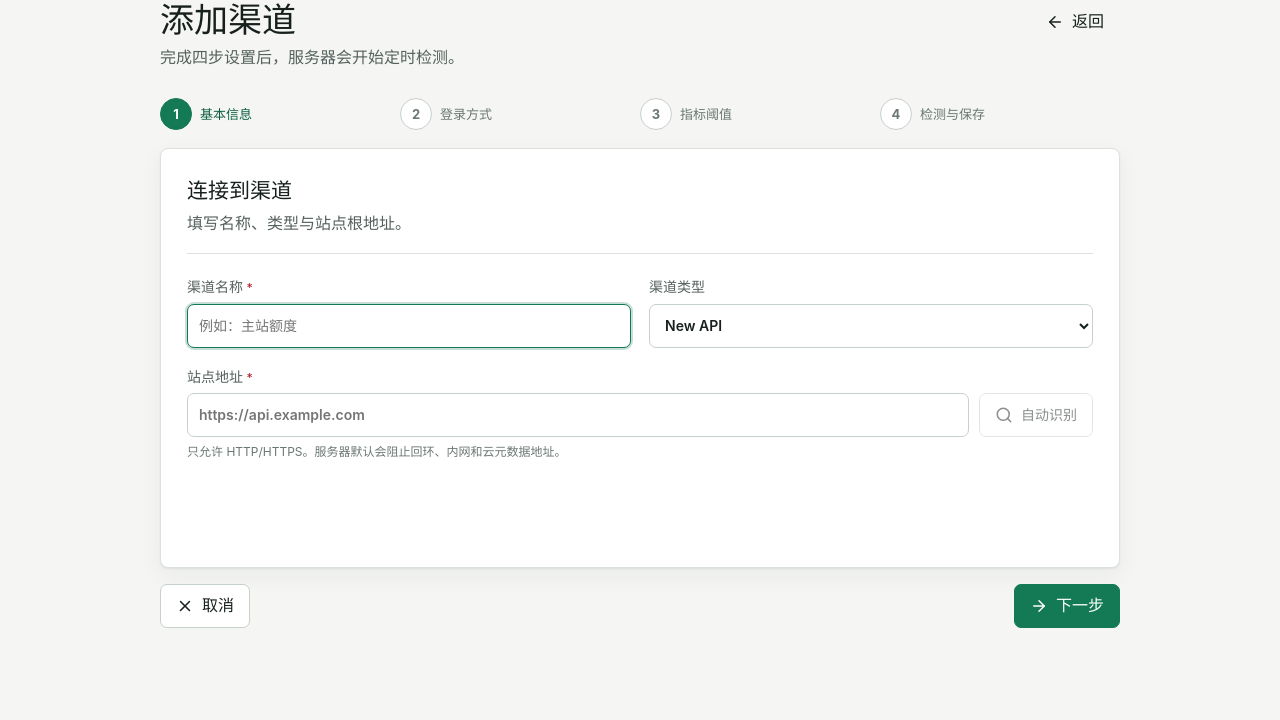
Test: 渠道向导 › Sub2API 登录步骤提供可选的管理员号池密钥
The image size is (1280, 720).
Type "Sub2 号池" into the field labelled "渠道名称 *". click: (409, 326)
box: [187, 304, 631, 348]
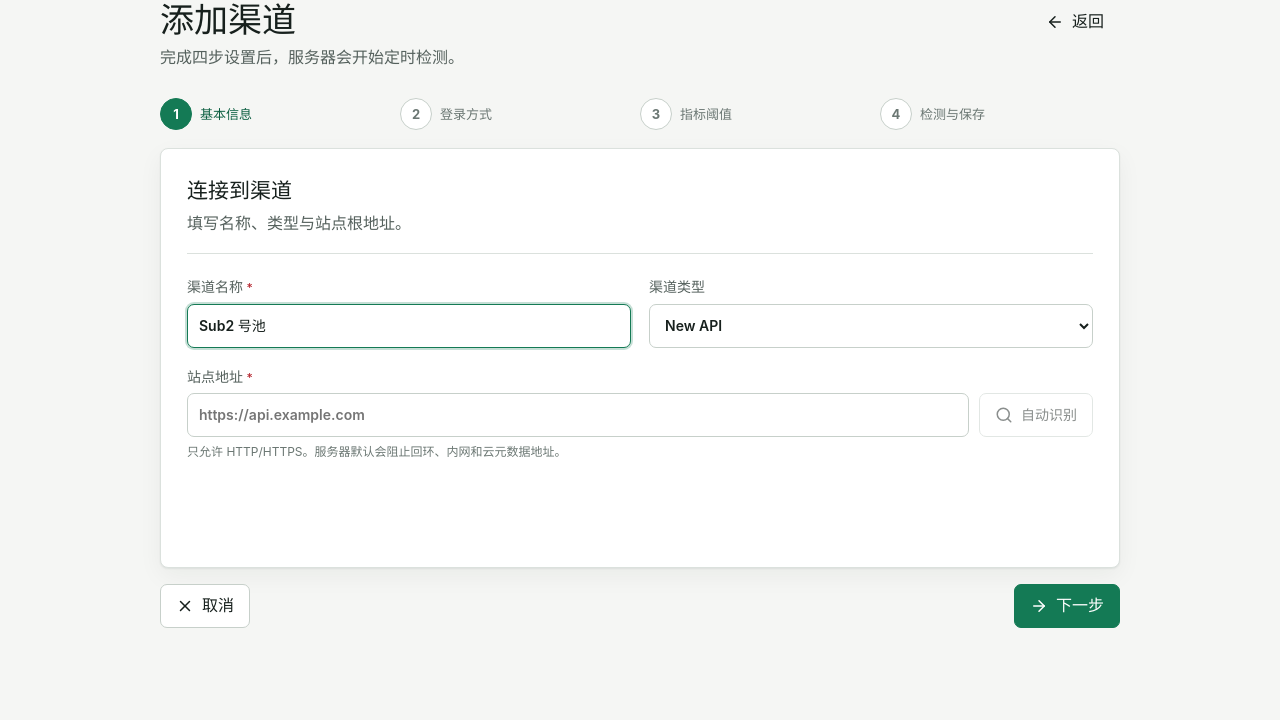
Select "Sub2API" in the dropdown labelled "渠道类型". click: (871, 326)
box: [649, 304, 1093, 348]
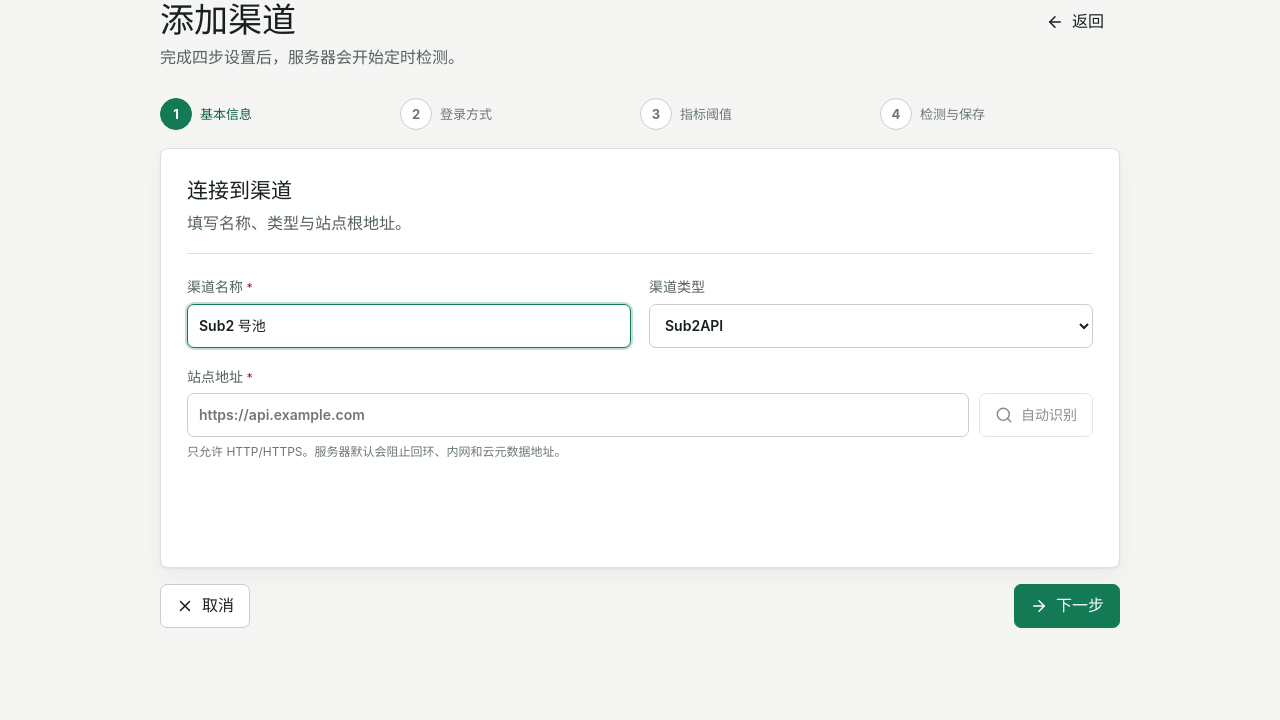
Type "https://sub.example.com" into the field labelled "站点地址 *". click: (578, 415)
box: [187, 393, 969, 437]
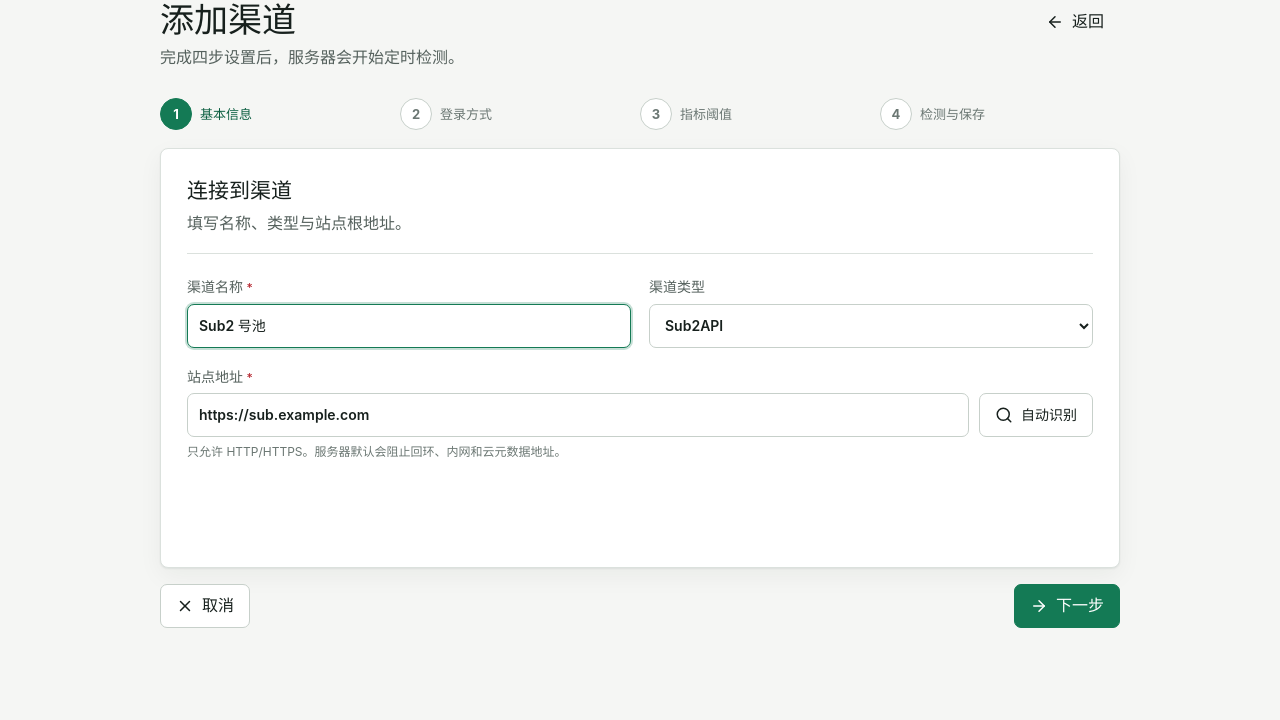
Click the button "下一步". click: (1067, 606)
box: [1014, 584, 1120, 628]
(page scrolled)
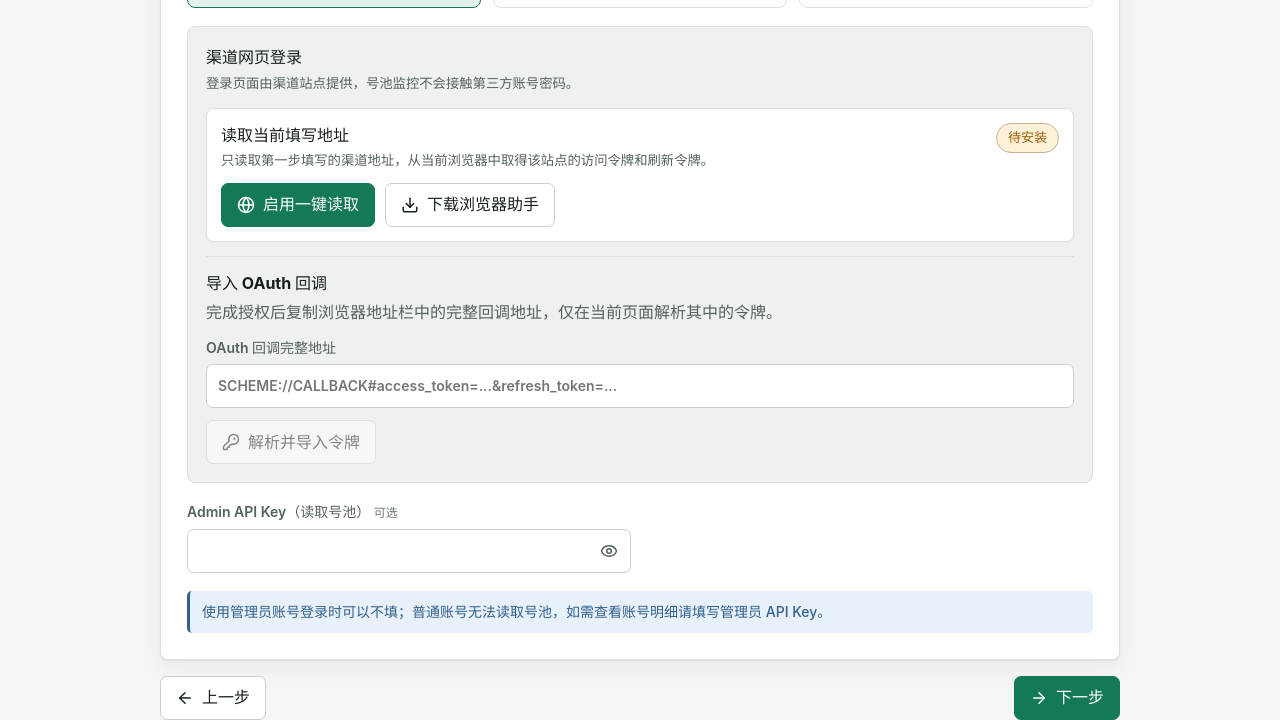
Result: the password field labelled "Admin API Key（读取号池） 可选" is empty at [187, 529, 631, 573]
Result: the text "使用管理员账号登录时可以不填；普通账号无法读取号池，如需查看账号明细请填写管理员 API Key。" is shown at [187, 591, 1093, 633]
